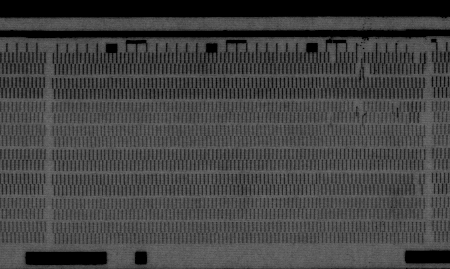Broken hole: (411, 172, 425, 195), (412, 51, 422, 65), (416, 111, 426, 124), (328, 51, 337, 65)
Oblique printing: (354, 51, 372, 82), (324, 112, 337, 128), (389, 99, 401, 116), (352, 99, 363, 115)
